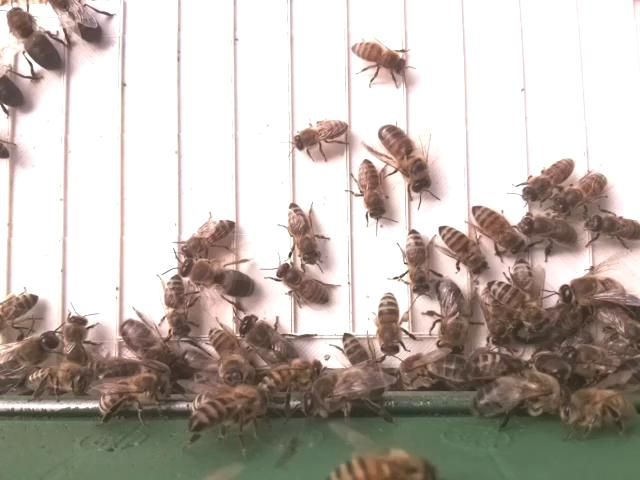Drone: (3, 4, 66, 74), (376, 122, 435, 195), (118, 316, 186, 375), (236, 311, 304, 370), (175, 255, 257, 302), (432, 276, 472, 355), (553, 274, 632, 307)
Worker: (482, 278, 549, 331), (467, 201, 522, 254), (272, 260, 332, 308), (434, 222, 488, 275), (519, 155, 576, 202), (552, 168, 610, 212), (285, 199, 324, 264), (348, 38, 411, 78), (518, 212, 582, 249), (290, 118, 354, 152), (402, 224, 432, 296), (374, 289, 404, 359), (356, 156, 385, 220), (581, 210, 640, 241)
